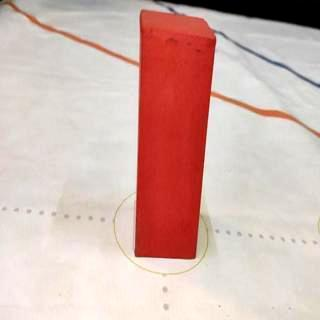redbox: (135, 9, 216, 260)
